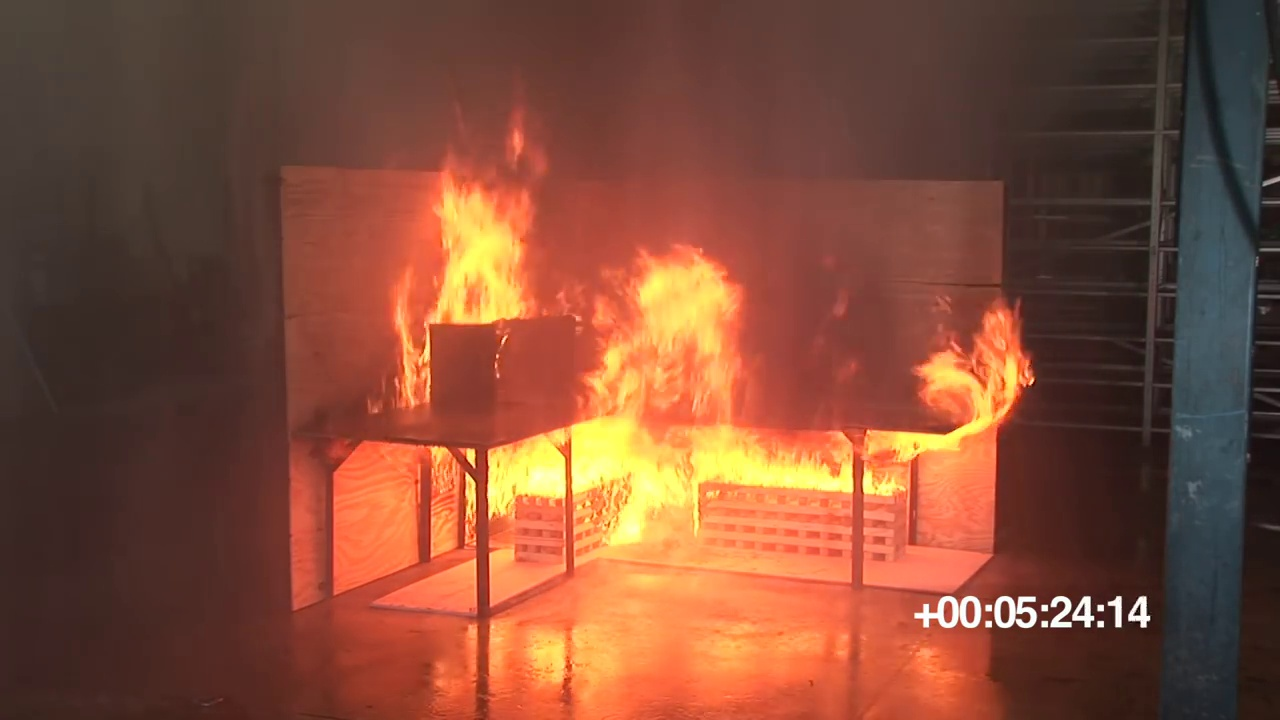fire: (600, 243, 756, 418), (493, 429, 901, 495), (407, 176, 530, 323), (925, 320, 1026, 429)
